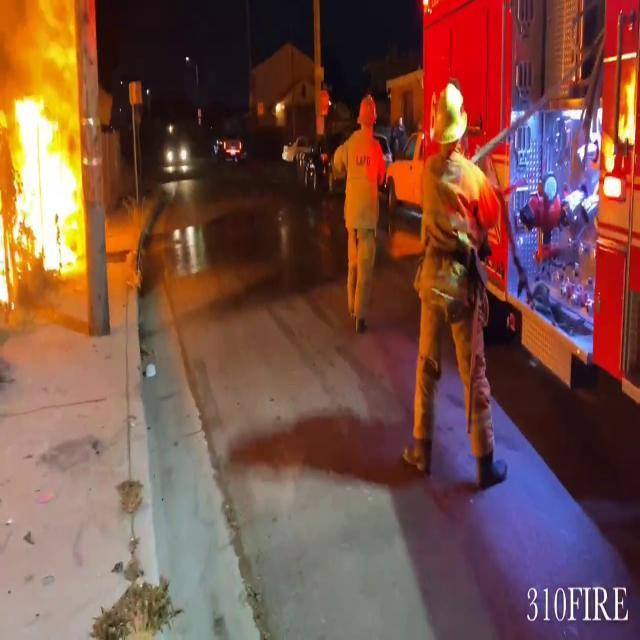Fire: (0, 80, 86, 298)
